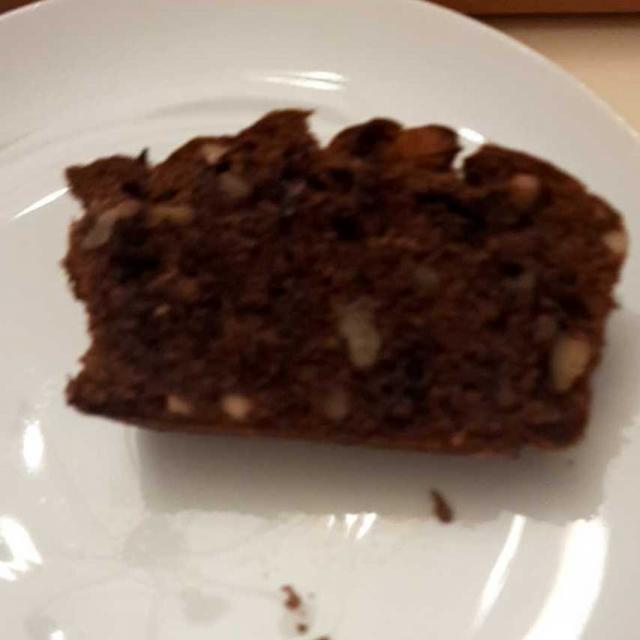cake-chocolate: (64, 118, 616, 451)
